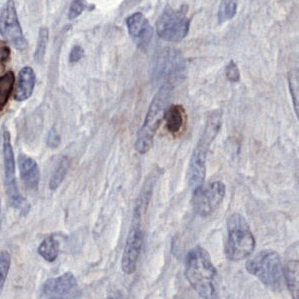Lymphocyte: (163, 104, 189, 136)
